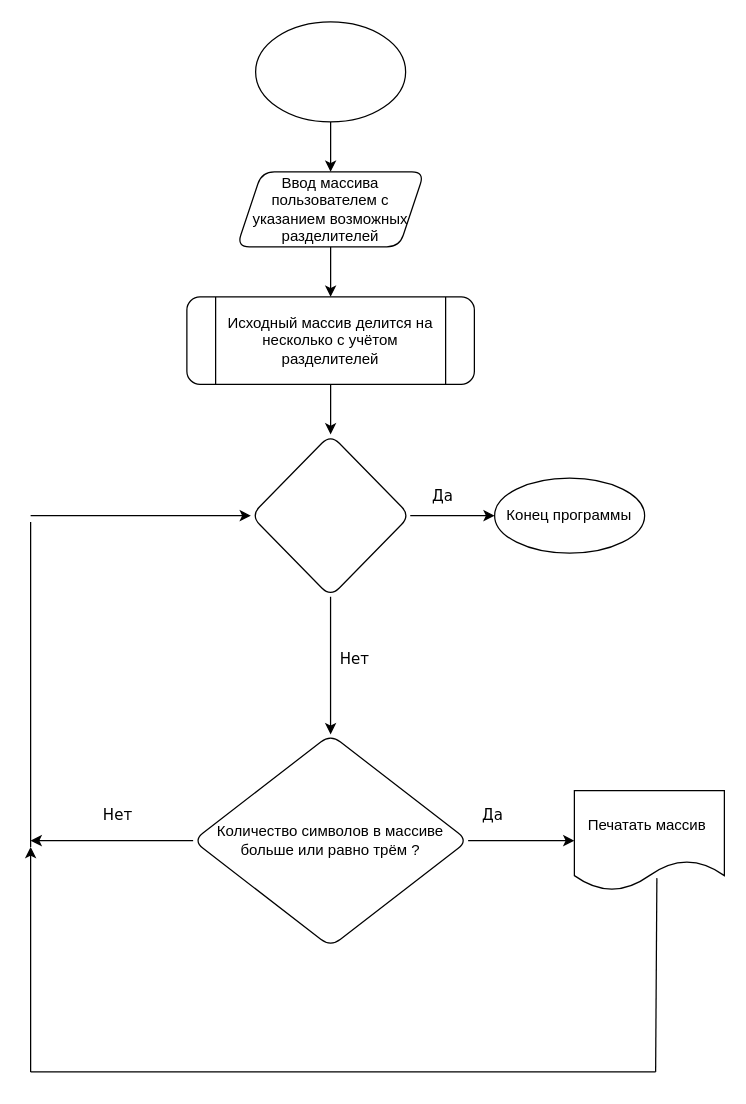
Image size: 746x1104. Some labels were removed from this diagram. The centre of each missing label's shape, as x and y in pixels:
Начало программы: [330,71]
проверили все массивы введёные пользователем ?: [330,515]
